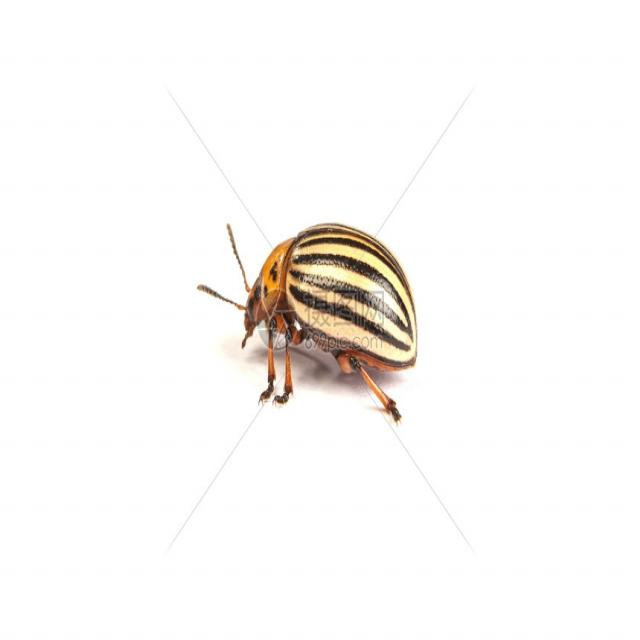ShuCaiHuaBanChong-Grown-: (222, 203, 445, 426)
